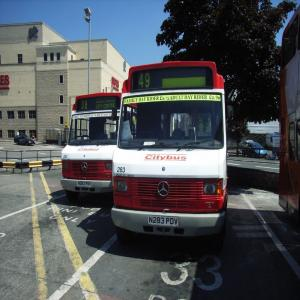Vehicle-registration-plate: (149, 216, 179, 228), (78, 183, 93, 187)
